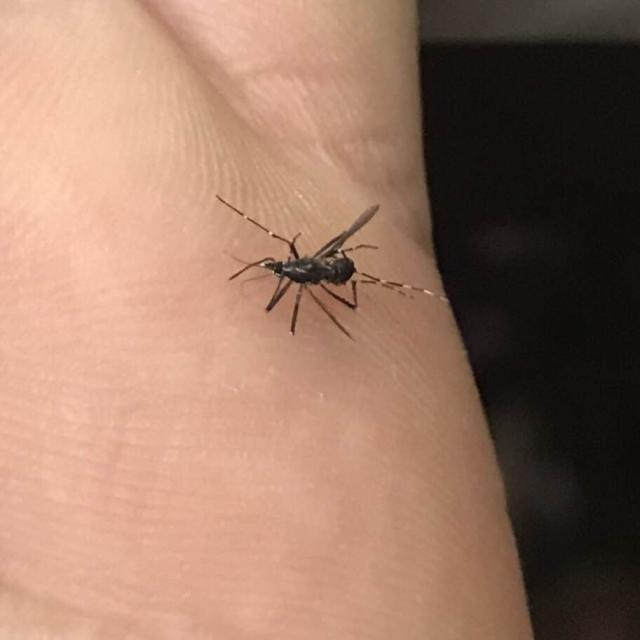albopictus: (208, 175, 447, 348)
